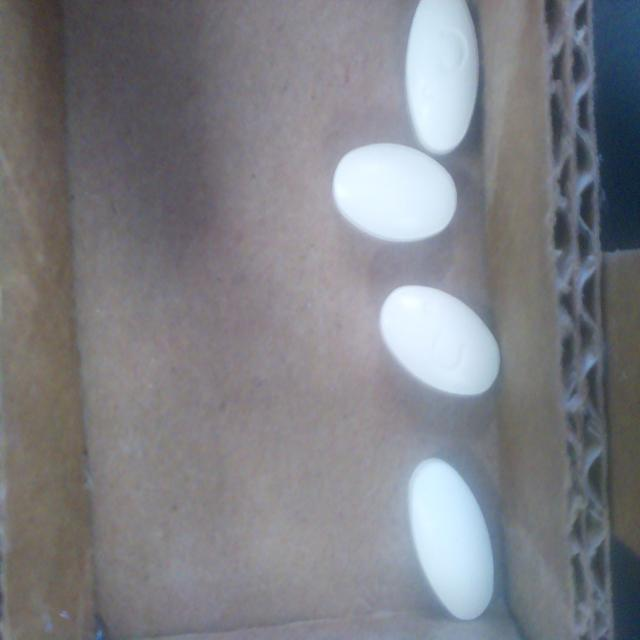pill: (408, 458, 494, 620), (380, 285, 500, 396), (332, 143, 457, 242), (405, 0, 479, 155)
